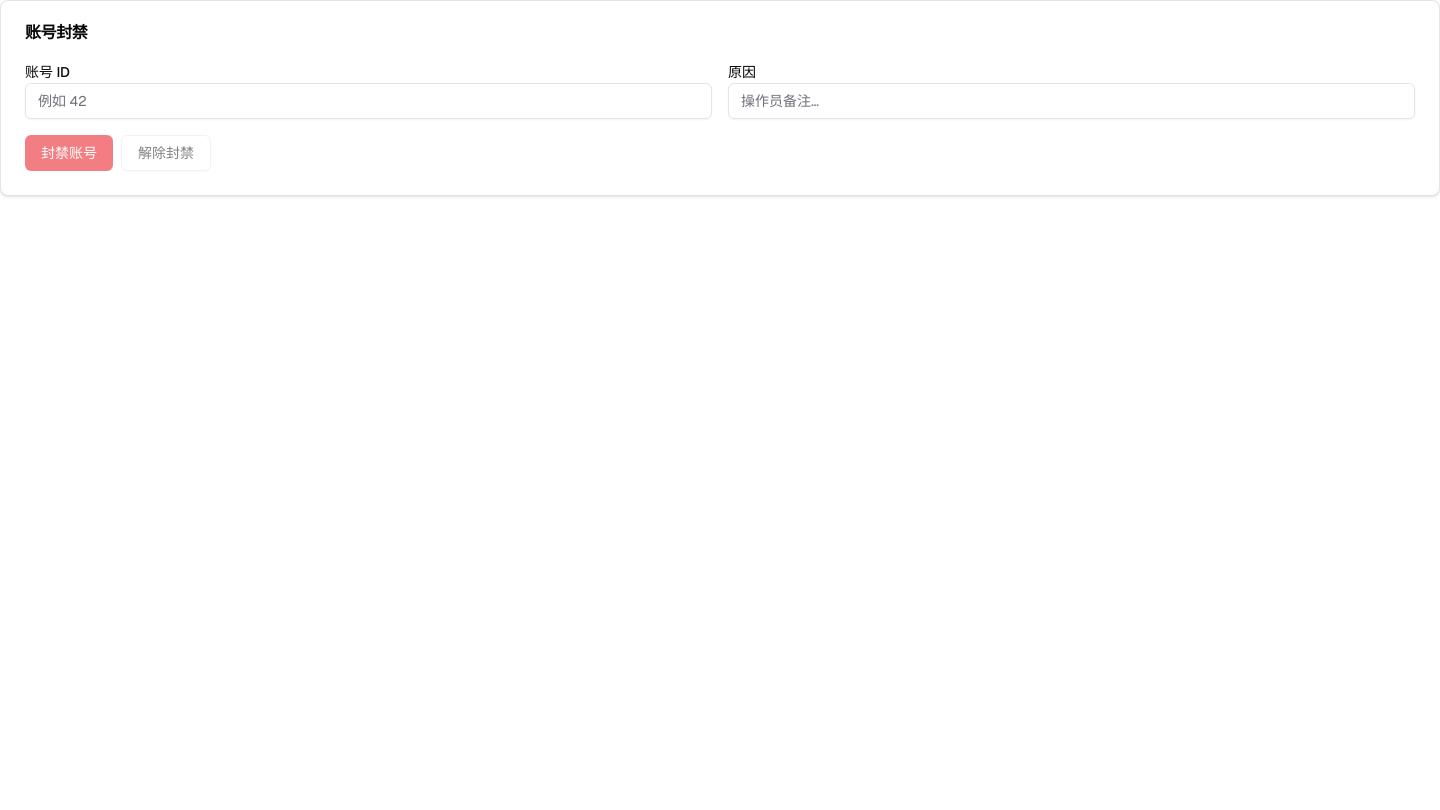
Test: AbuseClient › opens confirmation dialog when ban button clicked
Type "42" into the field labelled "账号 ID" at (368, 101), box [25,83,712,119]
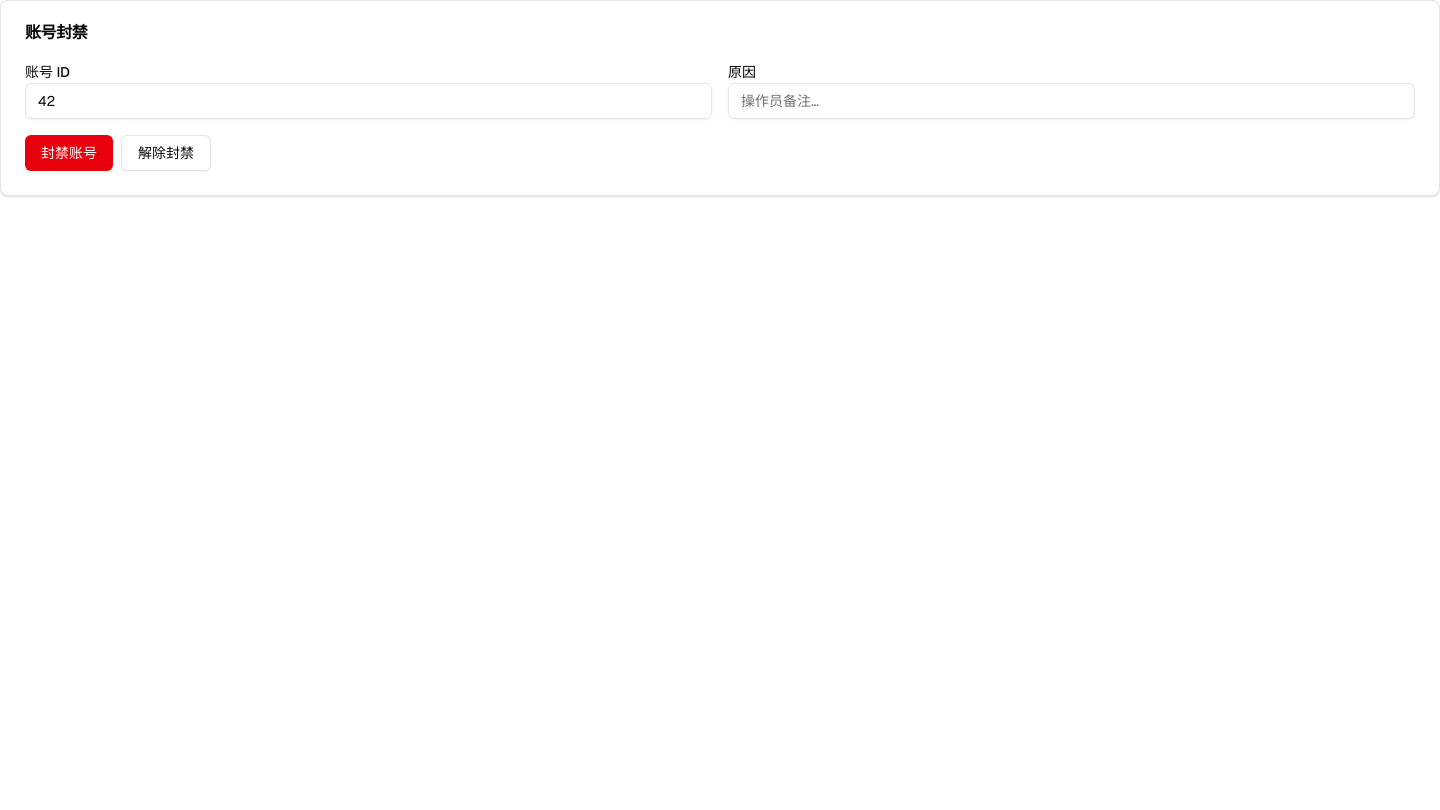
Click the button "封禁账号" at (69, 153), box [25,135,113,171]
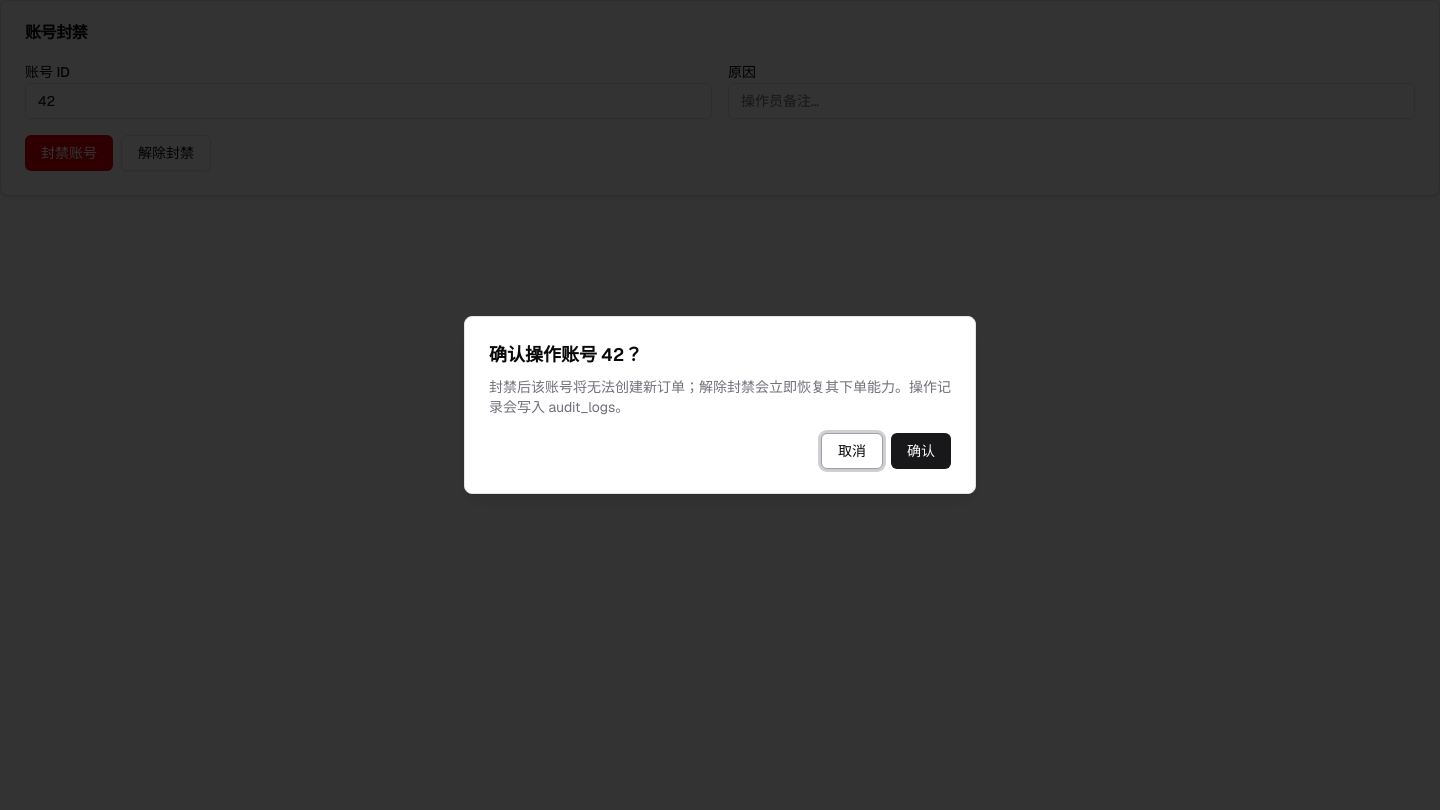
Expected: the heading "确认操作账号 42？" is shown, [489,343,642,366]
